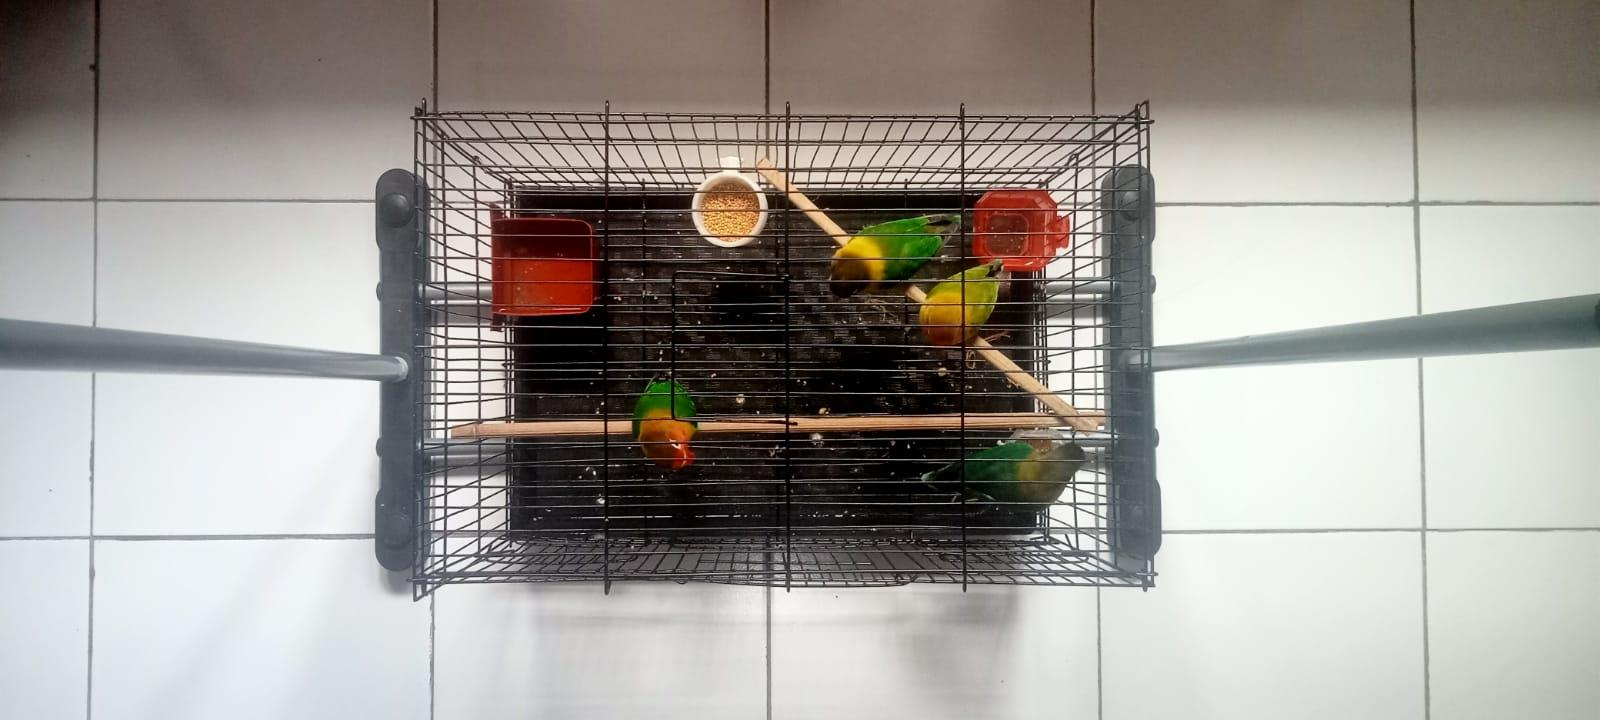LoveBird: (829, 213, 962, 299), (923, 442, 1085, 512), (919, 259, 1002, 351), (633, 371, 698, 469)
